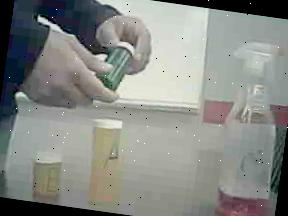Bottle A: (78, 112, 138, 214)
Bottle B: (26, 146, 71, 205)
Bottle C: (91, 36, 139, 97)
hazard: (206, 30, 288, 216)
